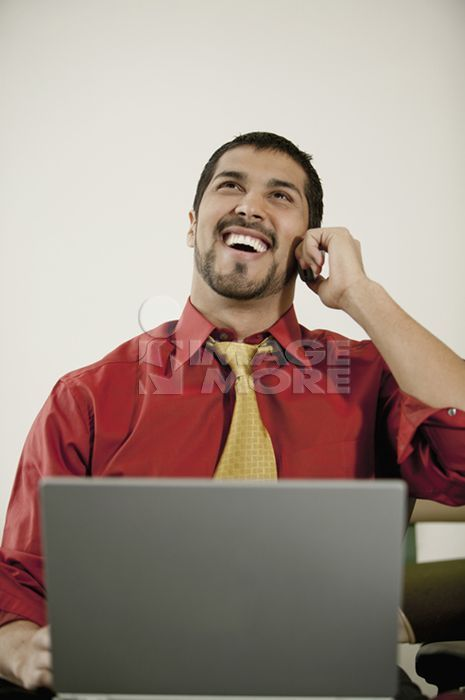phone: (296, 218, 352, 304)
talk: (197, 168, 366, 316)
